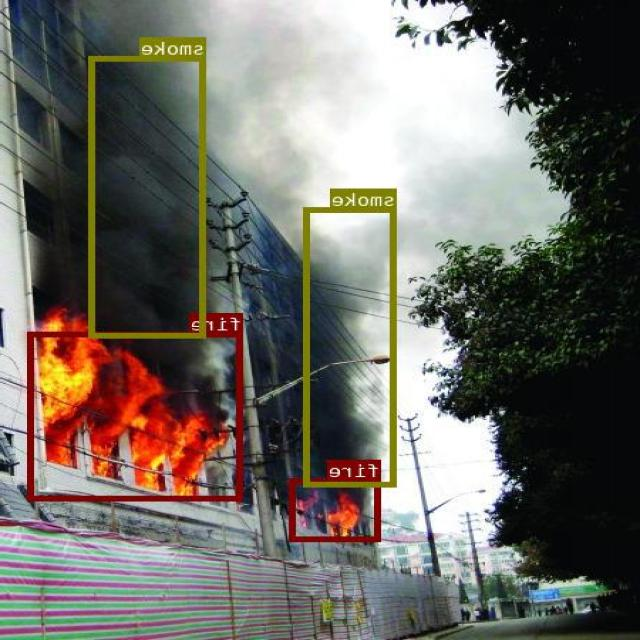fire: (29, 332, 244, 499), (290, 478, 382, 540)
smoke: (91, 56, 207, 337), (306, 207, 398, 486)
